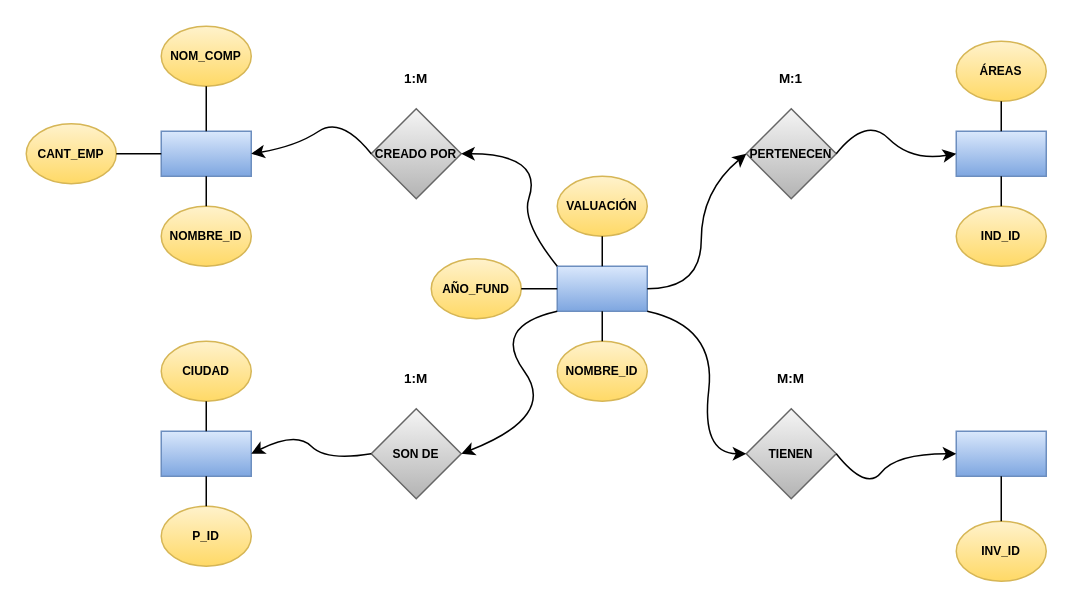
Some shapes in this 1073 by 608 pixel diagram are drawn without their labels. The shapes that lost their labels are listed below. From the top down, each one's centre as x and y in pixels, then its label:
At [205,153]: "COMPAÑÍA".
At [1000,153]: "INDUSTRIA".
At [601,288]: "START UP".
At [205,453]: "PAÍSES".
At [1000,453]: "INVERSOR".
